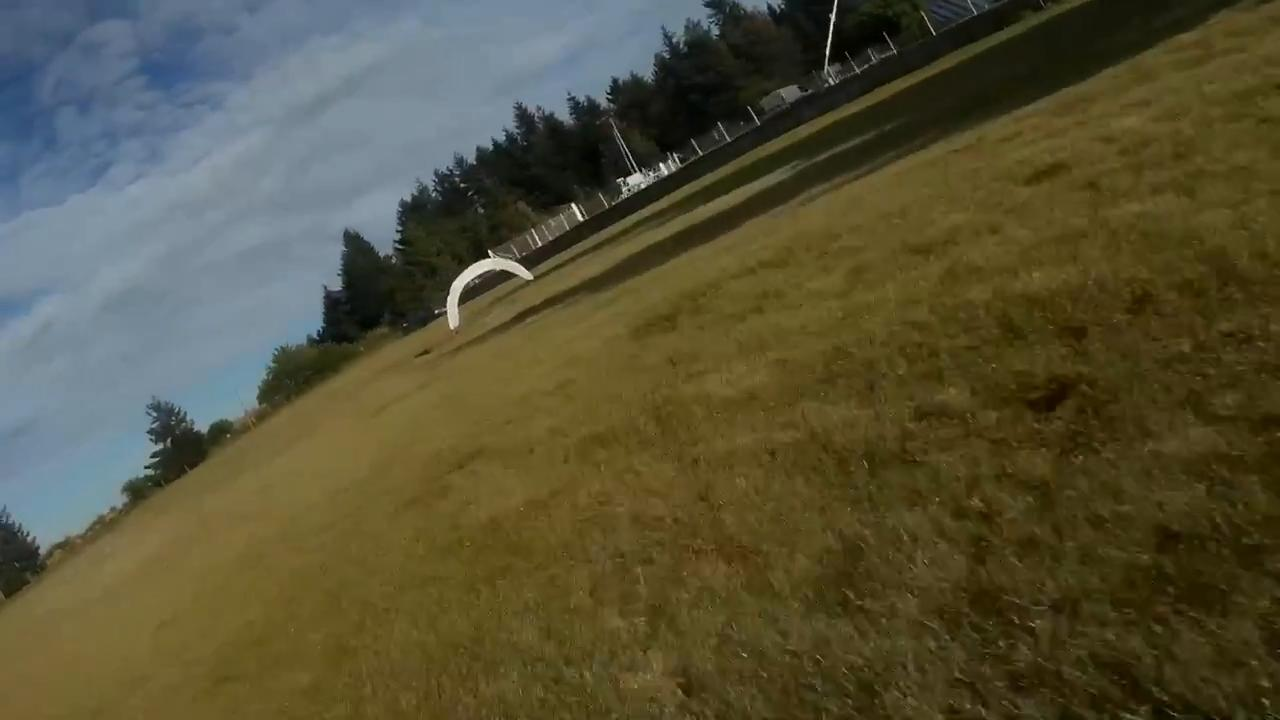gate: (445, 258, 530, 329)
